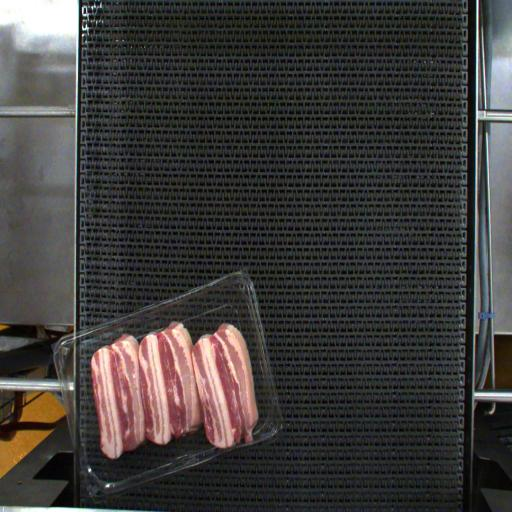packaging-error: (207, 431, 236, 454), (240, 434, 258, 452)
